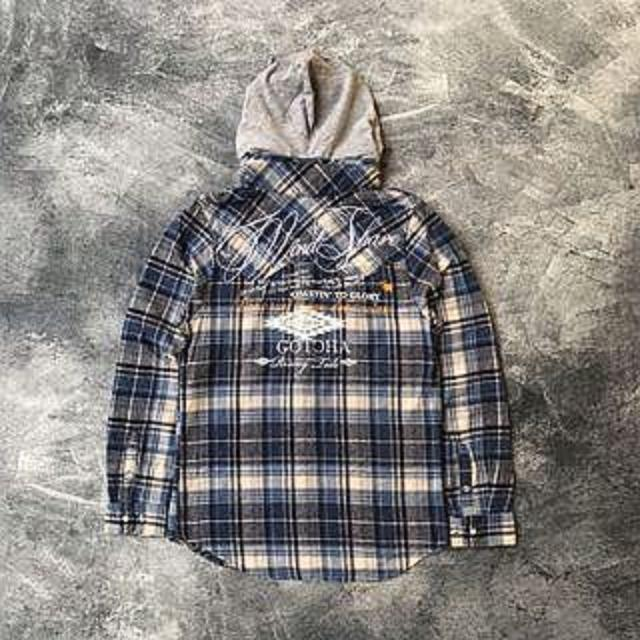SHIRT: (89, 158, 526, 588)
